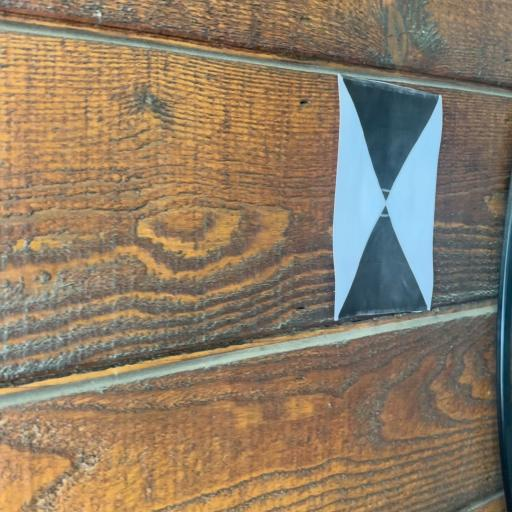target: (334, 77, 442, 318)
